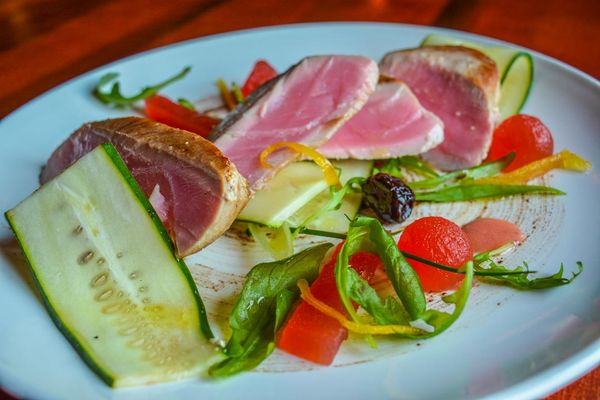curry: (0, 0, 600, 395)
